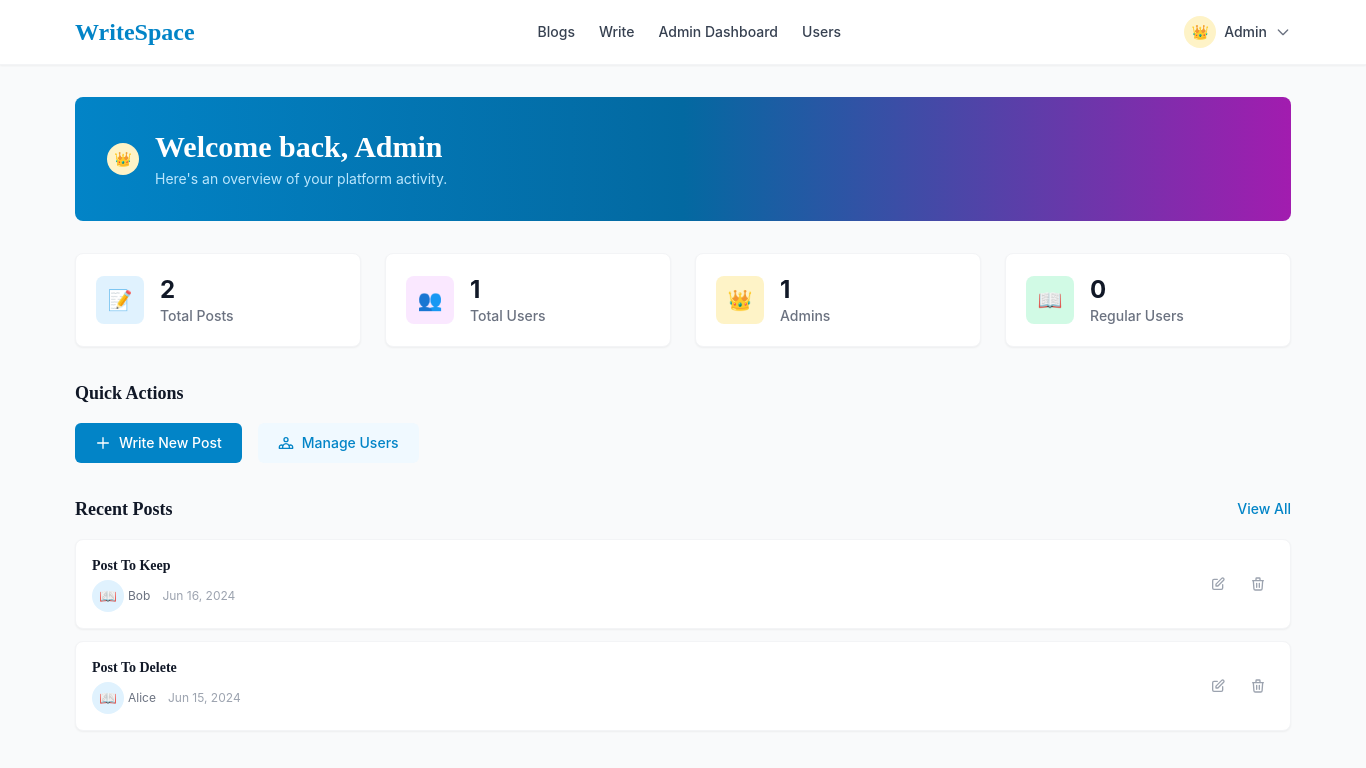
Test case: AdminDashboard › delete post functionality › closes delete confirmation modal when Cancel is clicked
Click the button titled "Delete post" in the row of "Jun 16, 2024" at (1258, 584), box [1242,568,1274,600]
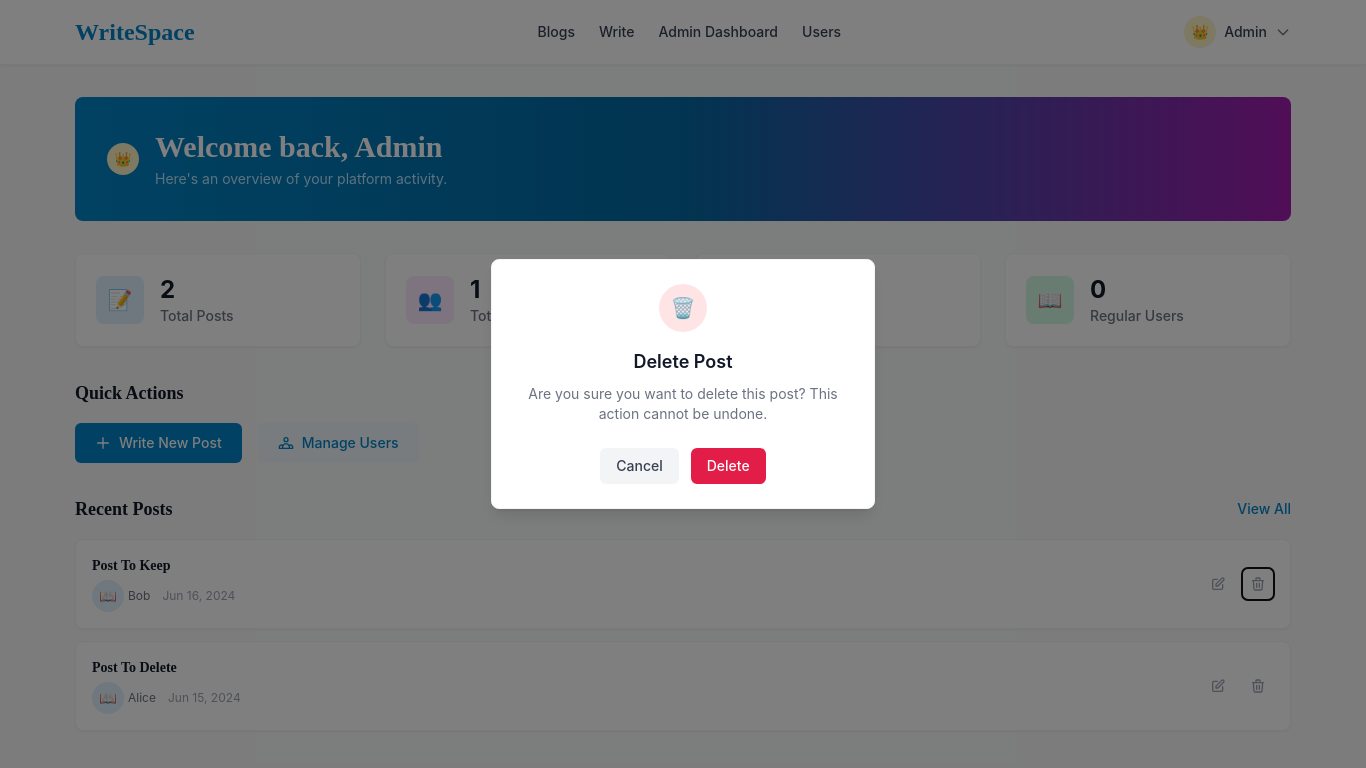
Expected: the heading "Delete Post" is shown, [634,351,732,372]
Click the button "Cancel" at (640, 466), box [600,448,679,484]
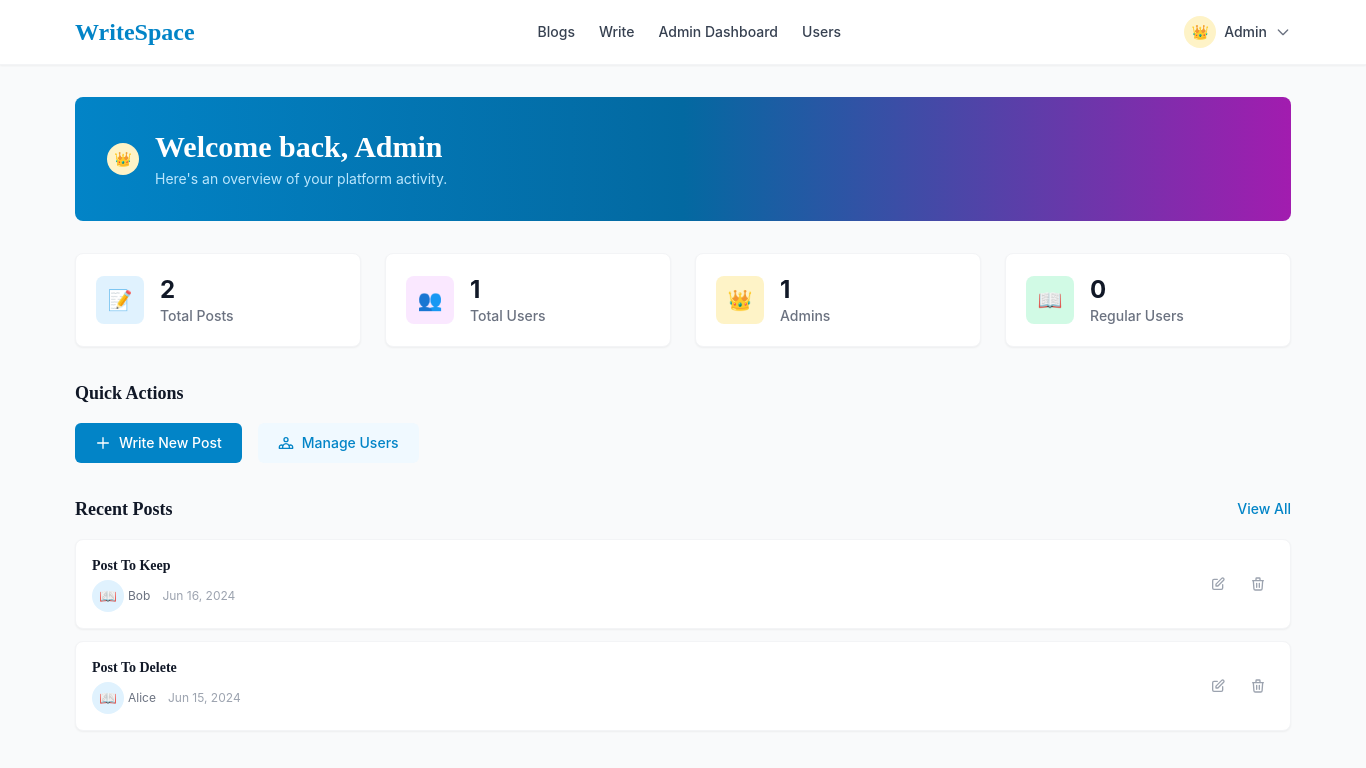
Expected: the text "Are you sure you want to delete this post" is gone
